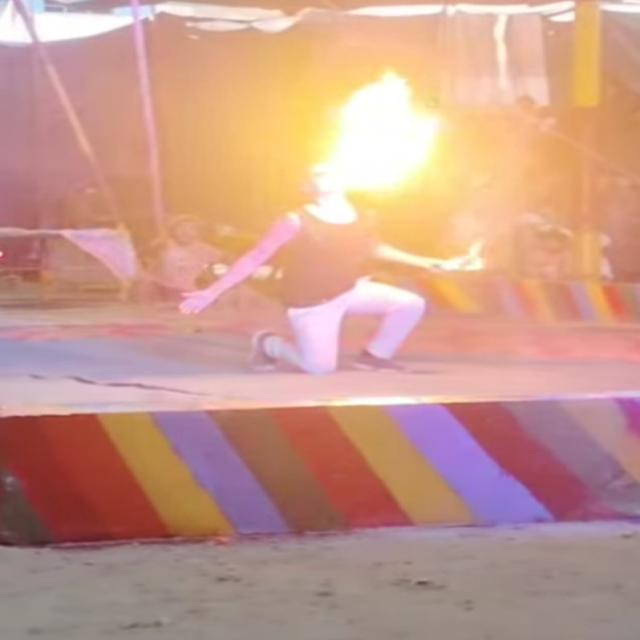fire: (325, 71, 438, 197)
